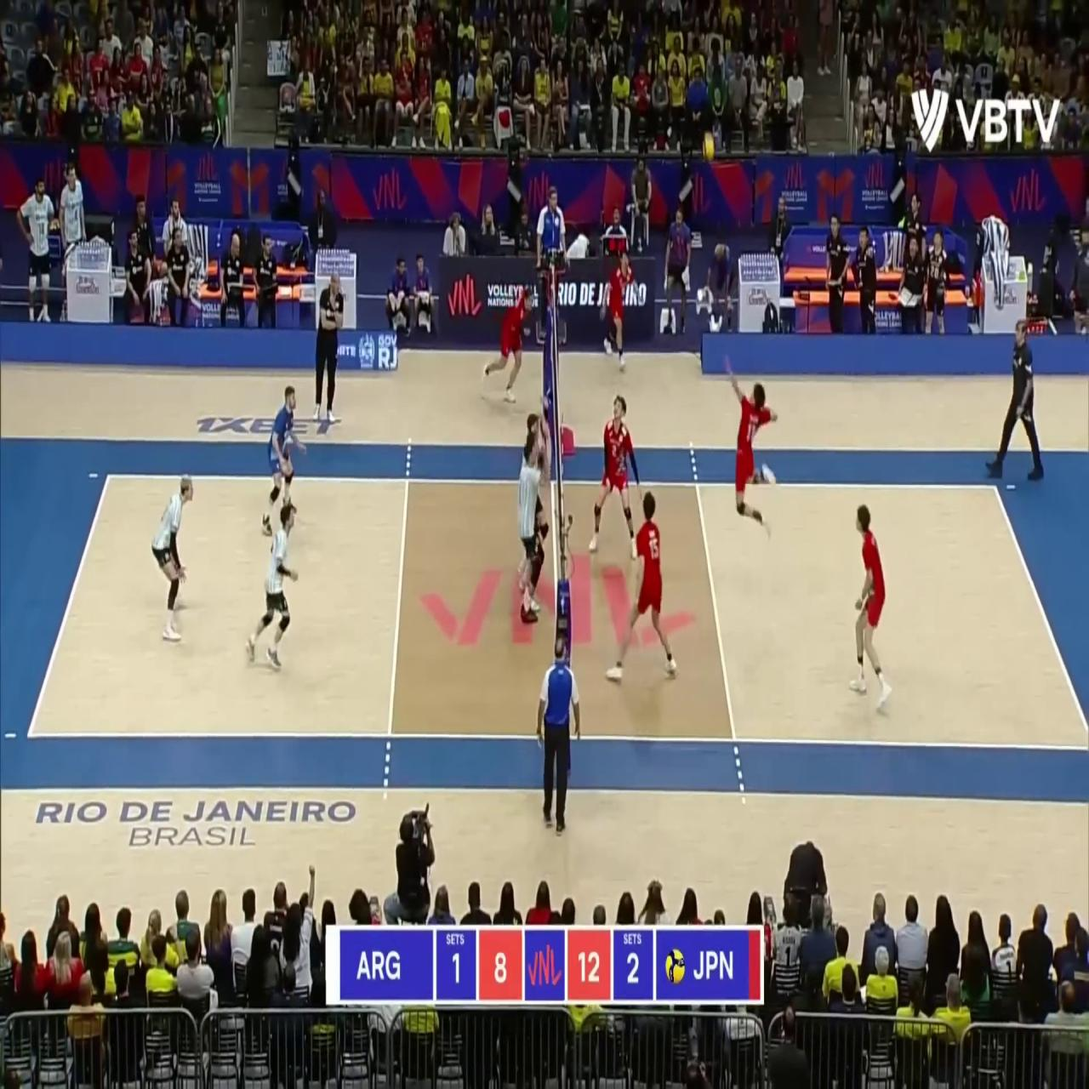ball: (703, 132, 715, 161)
